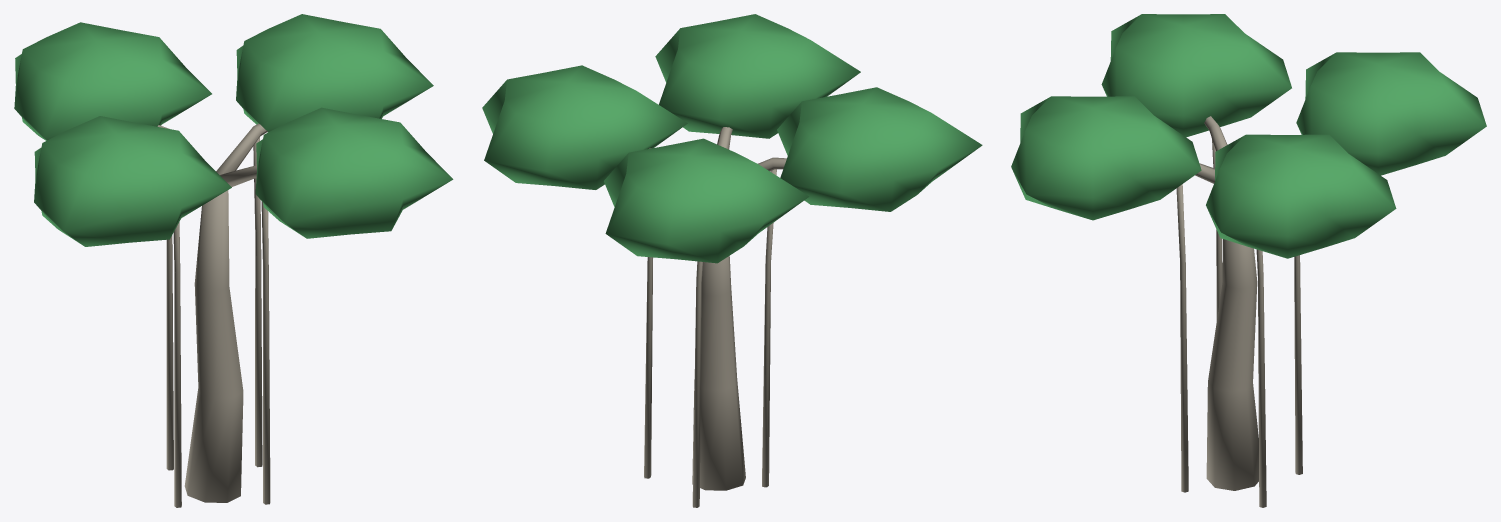
File: canopy_ancient_banyan.glb
3 renders of one model, left to right at view 1: azimuth 30°, elevation 25°; view 2: azimuth 150°, elevation 25°; view 3: azimuth 270°, elevation 25°, orthographic. The views are drawn at different scales.
Parts seen in each view (by area): view 1: Flora_Ancient_Banyan; view 2: Flora_Ancient_Banyan; view 3: Flora_Ancient_Banyan.
Boxes of the visible parts, <box> form: Flora_Ancient_Banyan: <box>14,14,453,507</box>; Flora_Ancient_Banyan: <box>482,14,982,507</box>; Flora_Ancient_Banyan: <box>1011,14,1486,507</box>.
Size of the model in its own units: 11.18 by 10.05 by 10.97.
